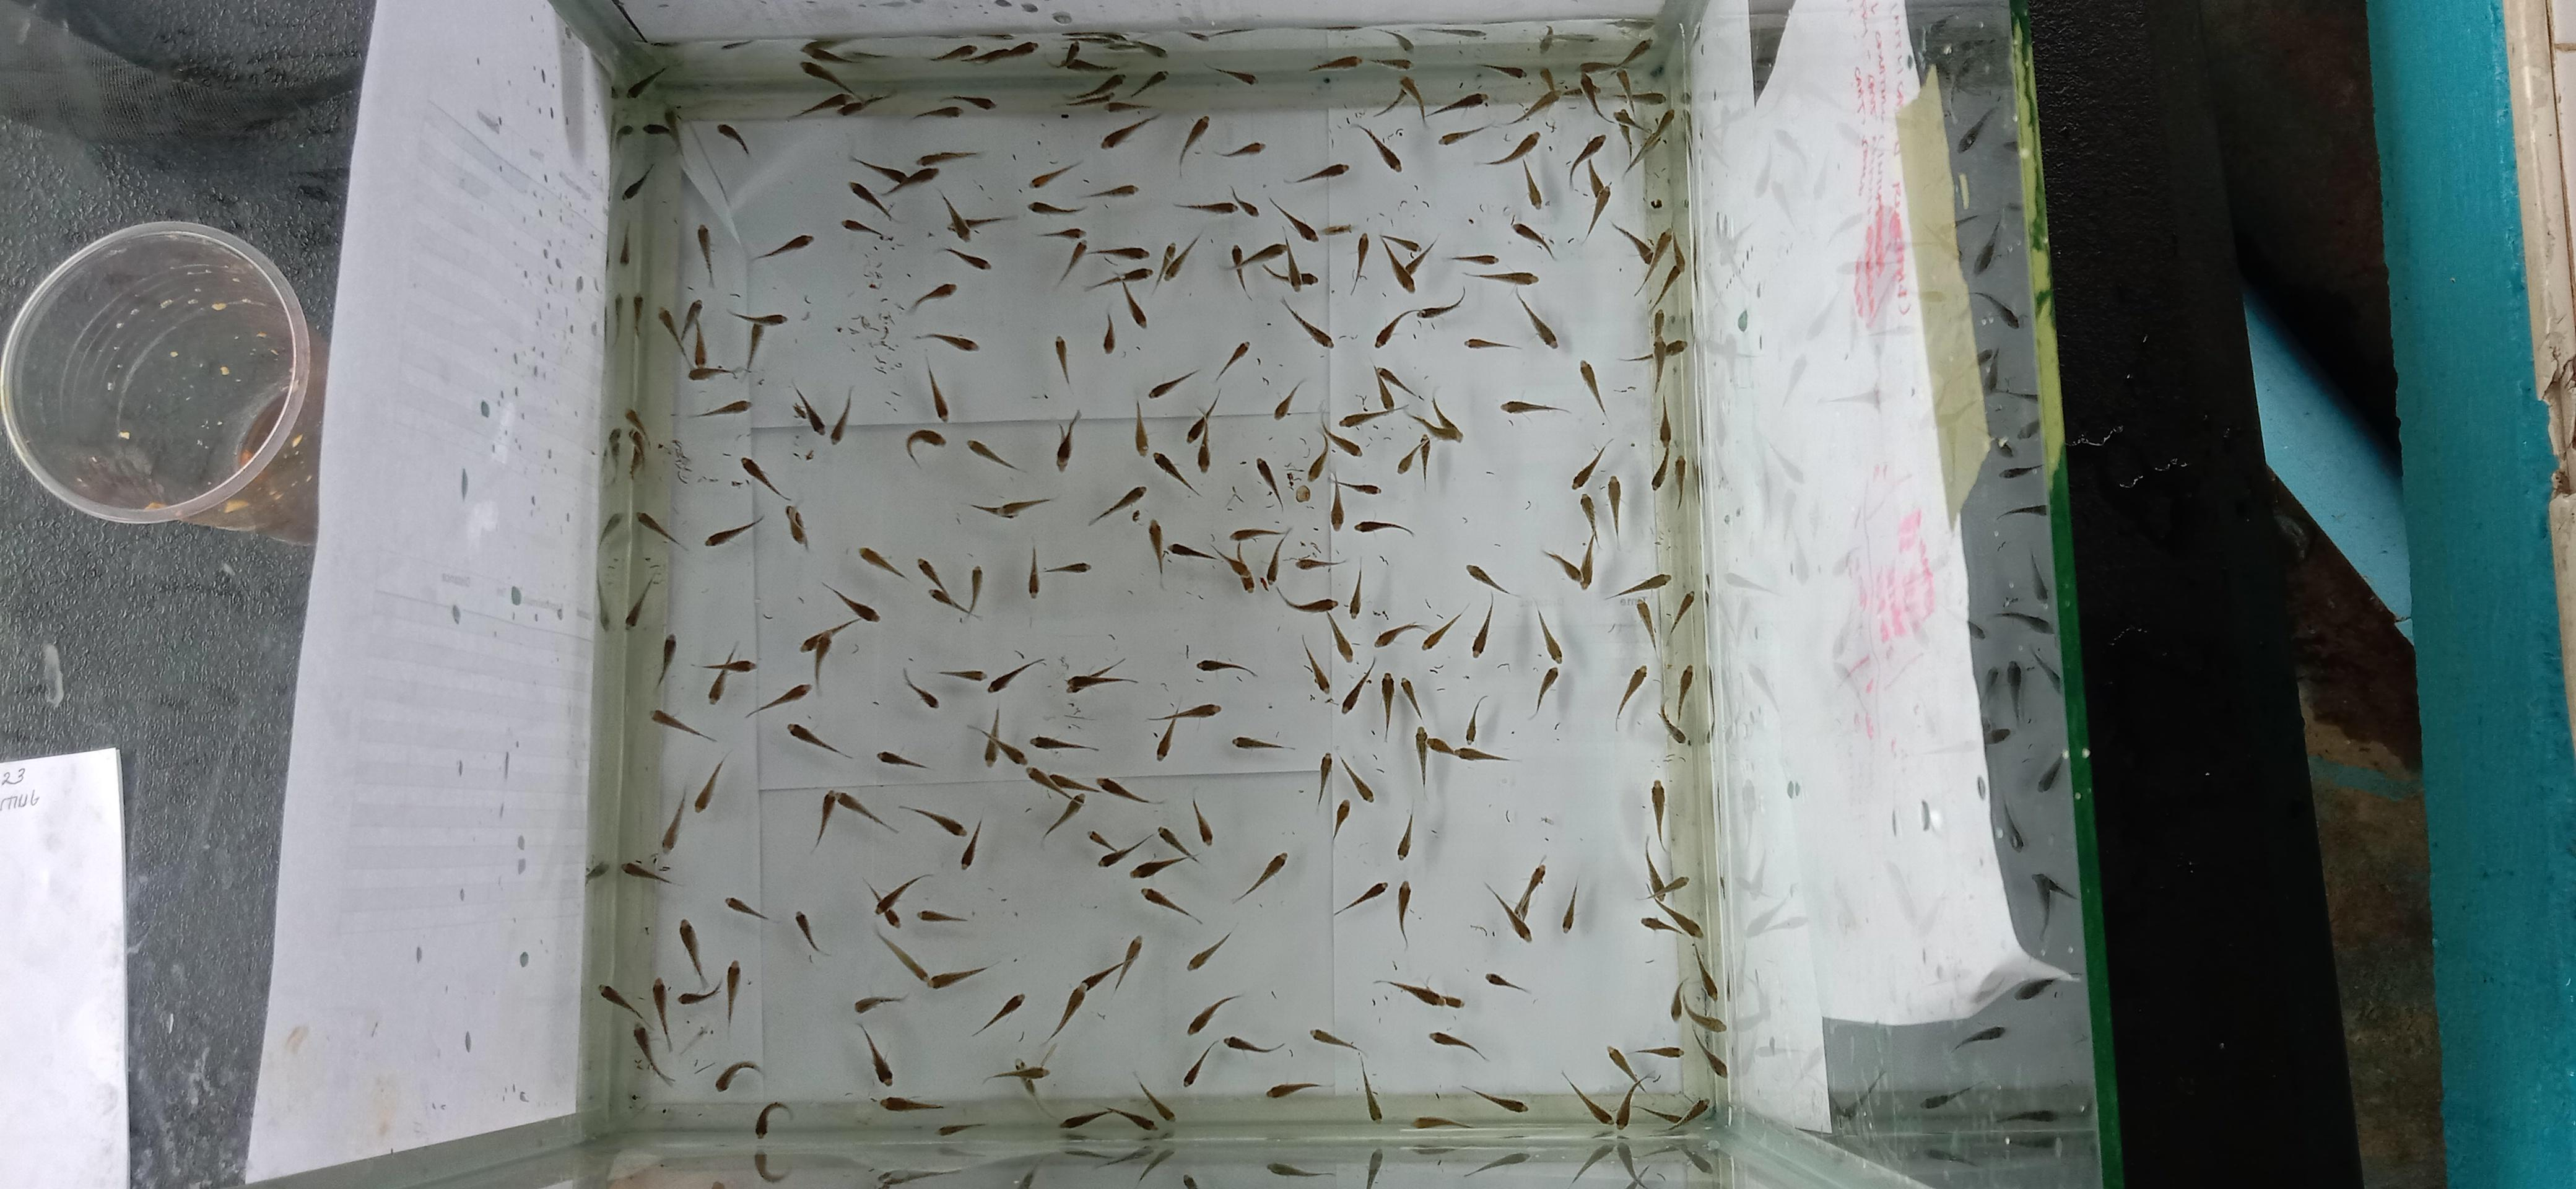fish: (1042, 934, 1142, 1046), (797, 581, 877, 695), (1060, 1071, 1176, 1135), (655, 301, 744, 383), (1309, 1026, 1383, 1122), (874, 930, 986, 990), (739, 455, 810, 549), (723, 895, 831, 956), (659, 755, 726, 851), (1275, 585, 1355, 660), (1395, 396, 1462, 484), (915, 332, 979, 420), (1424, 696, 1508, 764), (897, 803, 981, 869), (1543, 493, 1598, 590), (1610, 222, 1677, 301), (1483, 862, 1548, 941), (813, 788, 897, 846), (677, 957, 741, 1028), (915, 557, 982, 622), (1084, 264, 1153, 328), (798, 619, 858, 693), (1148, 701, 1221, 760), (1229, 524, 1293, 586), (1130, 824, 1199, 880), (695, 223, 746, 299), (1339, 368, 1400, 429), (940, 192, 1014, 241), (695, 642, 754, 703), (1081, 934, 1142, 994), (729, 310, 787, 373), (1306, 417, 1364, 480), (851, 156, 938, 197), (968, 708, 1027, 767), (1316, 751, 1375, 808), (866, 874, 930, 926), (1380, 233, 1436, 292), (1623, 337, 1687, 388), (655, 301, 701, 371), (1229, 241, 1286, 296), (1037, 227, 1088, 287), (1684, 1010, 1728, 1079), (688, 327, 743, 381), (1671, 980, 1727, 1033), (1561, 1071, 1613, 1127), (1327, 475, 1380, 530), (1658, 665, 1694, 746), (876, 930, 930, 982), (1232, 851, 1288, 902), (1262, 241, 1318, 292), (1373, 979, 1464, 1010), (1175, 186, 1260, 218), (1643, 841, 1689, 902), (798, 56, 859, 100), (1350, 120, 1401, 172), (1280, 299, 1334, 348), (1265, 194, 1319, 243), (1373, 74, 1428, 123), (1066, 655, 1137, 693), (1107, 71, 1168, 113), (1088, 828, 1150, 869), (1060, 1107, 1157, 1133), (1088, 483, 1147, 526), (1045, 985, 1088, 1044), (631, 1025, 674, 1084), (1413, 726, 1456, 785), (1543, 540, 1594, 590), (1140, 885, 1203, 925), (1579, 38, 1653, 71), (1426, 734, 1508, 764), (787, 721, 851, 759), (1288, 445, 1327, 506), (821, 580, 877, 622), (1186, 992, 1242, 1035), (1516, 294, 1559, 350), (744, 683, 810, 719), (1099, 113, 1161, 151), (1152, 450, 1203, 496), (912, 94, 996, 122), (1567, 133, 1607, 192), (1132, 1069, 1176, 1122), (899, 803, 966, 838), (858, 1021, 894, 1086), (649, 708, 715, 742), (1212, 545, 1258, 594), (1071, 33, 1163, 57), (1042, 792, 1086, 842), (1641, 903, 1704, 939), (636, 511, 690, 552), (1321, 223, 1354, 291), (1406, 402, 1462, 442), (986, 657, 1046, 693), (1582, 166, 1612, 240), (973, 992, 1023, 1035), (1607, 1046, 1659, 1087), (1065, 72, 1124, 108), (1649, 397, 1672, 489), (739, 457, 787, 501), (1339, 657, 1377, 713), (1615, 665, 1648, 729), (1160, 233, 1203, 282), (598, 982, 647, 1025), (1640, 1097, 1710, 1127), (1423, 90, 1488, 122), (1027, 765, 1089, 798), (1506, 87, 1561, 125), (1480, 131, 1539, 166), (1375, 365, 1424, 406), (986, 1059, 1050, 1090), (1460, 1084, 1528, 1113), (677, 918, 706, 985), (1510, 217, 1556, 259), (1421, 608, 1467, 650), (1332, 880, 1387, 916), (927, 581, 974, 622), (1613, 105, 1672, 138), (971, 496, 1055, 519), (798, 619, 854, 654), (1262, 526, 1293, 586), (1571, 440, 1608, 489), (649, 977, 674, 1053), (1429, 1030, 1488, 1061), (1051, 41, 1111, 72), (695, 640, 754, 672), (692, 757, 724, 813), (1086, 264, 1152, 292), (846, 299, 902, 332), (1613, 223, 1656, 266), (1186, 930, 1230, 971), (848, 181, 894, 220), (1186, 391, 1221, 443), (659, 790, 688, 851), (1178, 113, 1209, 171), (1275, 585, 1339, 613), (966, 438, 1020, 471), (624, 575, 657, 629), (858, 545, 907, 581), (1301, 636, 1331, 695), (915, 557, 953, 603), (705, 517, 762, 547), (675, 1021, 713, 1066), (1615, 69, 1666, 102), (902, 662, 938, 708), (793, 910, 830, 956), (1114, 934, 1142, 994), (1695, 665, 1717, 742), (1339, 755, 1373, 803), (792, 386, 825, 435), (1416, 287, 1465, 320), (1273, 376, 1311, 419), (1577, 360, 1605, 417), (1613, 572, 1671, 599), (1028, 159, 1083, 189), (1396, 434, 1431, 480), (624, 407, 647, 476), (715, 1059, 762, 1092), (941, 192, 974, 240), (1096, 775, 1152, 803), (754, 233, 813, 259), (787, 94, 846, 120), (905, 429, 946, 466), (1319, 422, 1362, 458), (1157, 824, 1199, 861), (1148, 368, 1198, 399), (1130, 854, 1193, 879), (1056, 236, 1088, 286), (1690, 943, 1718, 997), (1465, 563, 1511, 596), (1055, 411, 1079, 471), (752, 1100, 792, 1138), (1216, 340, 1250, 383), (1536, 608, 1562, 663), (1255, 457, 1283, 509), (1183, 1043, 1216, 1087), (1147, 701, 1221, 721), (925, 358, 948, 420), (1577, 72, 1608, 118), (1373, 309, 1410, 348), (851, 156, 905, 182), (1339, 404, 1396, 429), (928, 966, 986, 990), (1666, 590, 1695, 637), (1326, 614, 1355, 662), (828, 388, 853, 443), (1359, 1066, 1383, 1122), (910, 281, 956, 310), (1028, 734, 1097, 754), (682, 301, 705, 360), (1633, 598, 1659, 649), (1373, 622, 1424, 649), (936, 246, 991, 271), (839, 92, 894, 117), (1291, 161, 1349, 184), (1470, 599, 1493, 657), (715, 122, 751, 158), (913, 332, 979, 351), (1107, 1107, 1157, 1133), (1230, 243, 1255, 296), (813, 790, 836, 846), (1658, 705, 1689, 746), (1079, 961, 1120, 992), (1500, 399, 1571, 417), (1198, 659, 1257, 680), (695, 223, 715, 287), (1286, 463, 1316, 506), (621, 859, 672, 884), (654, 634, 677, 688), (1539, 66, 1577, 99), (1694, 1041, 1727, 1079), (1400, 76, 1428, 120), (667, 440, 695, 484), (1222, 1035, 1285, 1054), (1649, 780, 1667, 847), (1309, 1026, 1359, 1051), (688, 327, 713, 376), (959, 816, 982, 869), (1306, 427, 1329, 480), (1350, 232, 1370, 292), (1378, 673, 1396, 739), (1615, 1081, 1640, 1128), (724, 895, 769, 921), (1454, 741, 1508, 762), (1147, 519, 1166, 576), (1130, 399, 1150, 457), (1081, 182, 1138, 202), (1166, 540, 1216, 563), (1373, 366, 1398, 412), (1175, 199, 1237, 217), (1605, 473, 1623, 535), (853, 994, 905, 1015), (1130, 69, 1168, 99), (877, 1095, 945, 1112), (724, 959, 741, 1026), (1375, 26, 1414, 54), (1577, 493, 1600, 540), (1521, 161, 1544, 209), (1122, 284, 1147, 328), (1400, 677, 1424, 721), (1060, 1109, 1111, 1130), (1669, 457, 1690, 507), (1355, 519, 1414, 537), (1229, 526, 1283, 545), (688, 361, 743, 381), (1536, 665, 1559, 711), (918, 149, 982, 166), (1230, 734, 1295, 751), (677, 980, 720, 1005), (1316, 751, 1334, 808), (1437, 126, 1490, 146), (1395, 880, 1411, 943), (785, 504, 808, 549), (1485, 971, 1529, 994), (698, 655, 754, 673), (876, 749, 927, 769), (698, 397, 749, 417), (1479, 269, 1539, 286), (1265, 1081, 1319, 1099), (1028, 199, 1083, 217), (1027, 765, 1058, 796), (1411, 1113, 1470, 1130), (1618, 38, 1653, 66), (1308, 54, 1360, 72), (1421, 731, 1457, 757), (1676, 665, 1694, 718), (966, 565, 984, 617), (1336, 476, 1380, 498), (1193, 796, 1212, 844), (1295, 553, 1345, 572), (1327, 480, 1345, 530), (1155, 718, 1176, 760), (1464, 696, 1483, 742), (1053, 335, 1071, 384), (1160, 241, 1181, 282), (1331, 800, 1350, 844), (841, 217, 885, 236), (1230, 187, 1260, 217), (1414, 726, 1429, 785), (1641, 916, 1686, 936), (917, 908, 969, 925), (729, 310, 787, 325), (1613, 108, 1648, 133), (1382, 233, 1421, 255), (1561, 882, 1577, 933), (1347, 567, 1364, 617), (1211, 67, 1257, 85), (912, 103, 961, 120), (1396, 810, 1413, 859), (623, 407, 647, 440), (1025, 544, 1040, 598), (951, 94, 996, 112), (1669, 979, 1687, 1023), (605, 294, 619, 348), (616, 223, 634, 268), (1479, 62, 1526, 79), (1464, 337, 1516, 351), (1063, 703, 1099, 724), (938, 667, 984, 683), (1097, 246, 1148, 261), (706, 667, 726, 705), (1221, 141, 1265, 158), (1449, 253, 1498, 268), (936, 1122, 986, 1136), (1107, 99, 1152, 115), (1037, 227, 1084, 241), (631, 292, 646, 340), (971, 501, 1012, 517), (1194, 437, 1212, 473), (644, 122, 677, 141), (1088, 829, 1115, 852), (1101, 310, 1115, 353), (1178, 703, 1221, 718), (1615, 67, 1635, 99), (1206, 28, 1252, 41), (1538, 66, 1559, 94), (1633, 1046, 1684, 1058), (1372, 57, 1411, 72), (1117, 268, 1152, 284), (1630, 89, 1667, 103), (1291, 480, 1313, 504), (1226, 483, 1244, 511), (1046, 562, 1089, 573), (1644, 191, 1667, 212), (1321, 222, 1354, 236), (1469, 923, 1497, 938), (789, 448, 816, 461)
